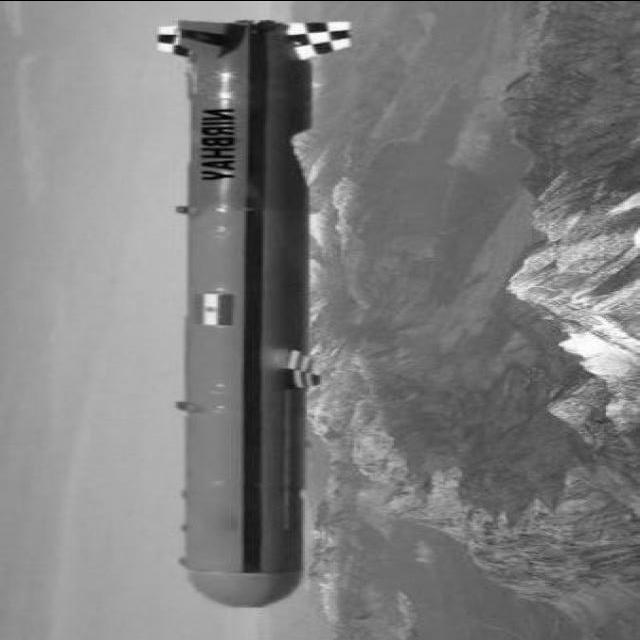missile: (141, 15, 353, 613)
